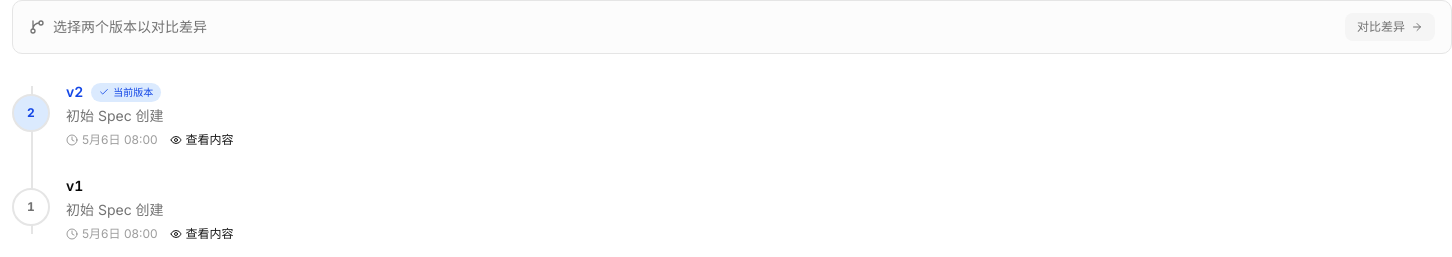
VersionTimeline › Version selection › deselects a version when clicked again
The width and height of the screenshot is (1452, 257).
Click the button named "选择 v1".
click(31, 207)  # box [12,188,50,226]
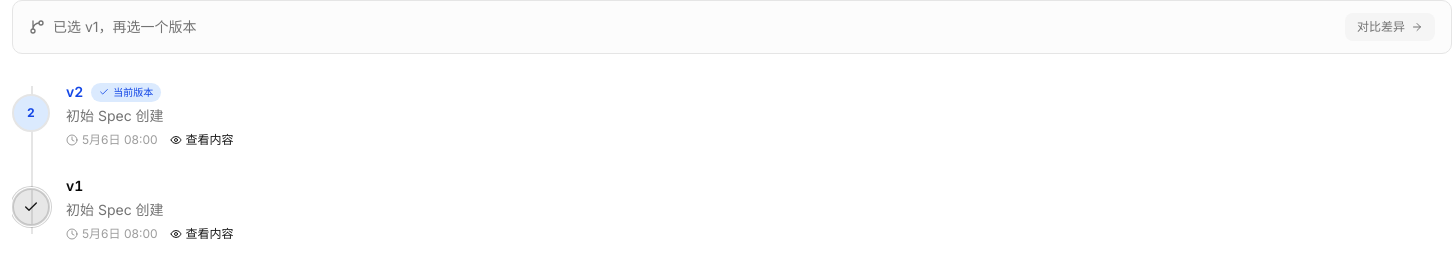
Click the button named "选择 v1".
click(31, 207)  # box [12,188,50,226]
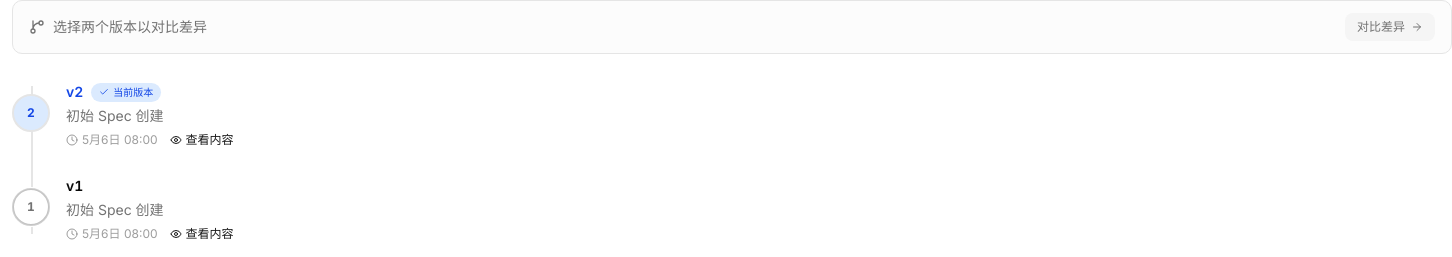
Expected: the text "选择两个版本以对比差异" is shown, [53,17,207,37]
